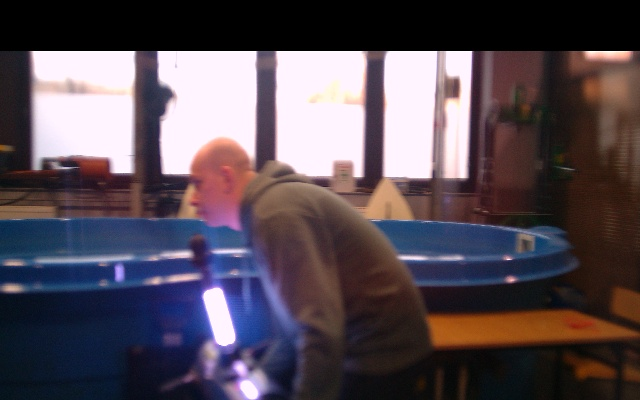white: (202, 288, 235, 346)
